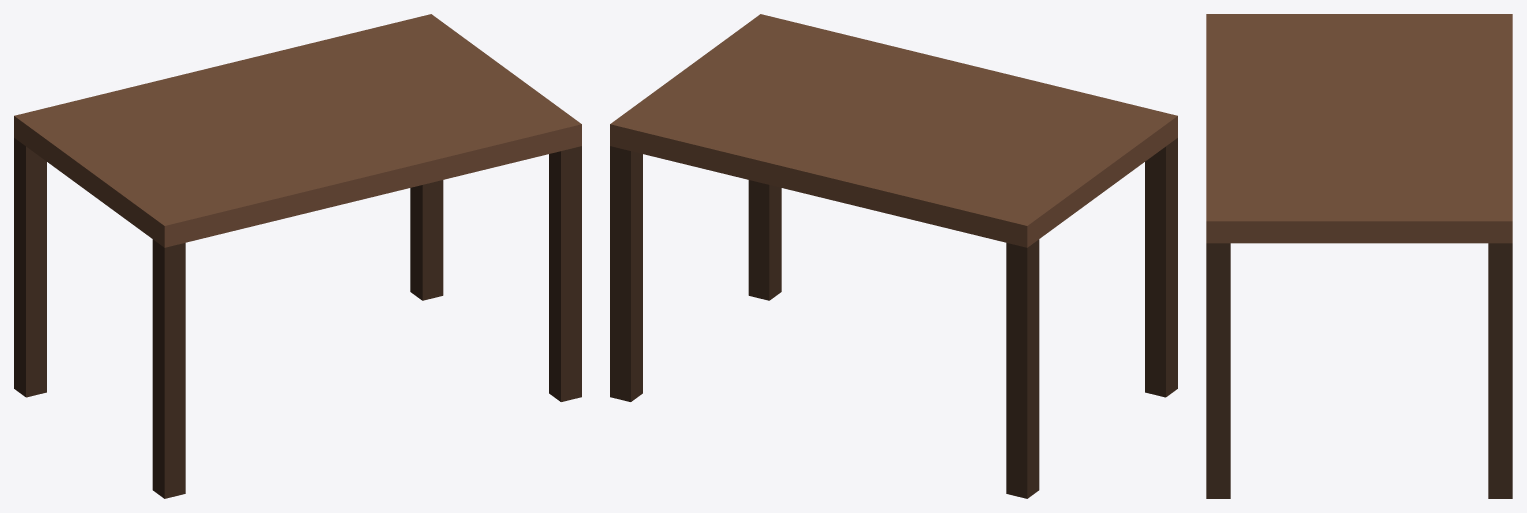
File: prop_workbench_workshop.glb
3 renders of one model, left to right at view 1: azimuth 30°, elevation 25°; view 2: azimuth 150°, elevation 25°; view 3: azimuth 270°, elevation 25°, orthographic.
Visible parts, largest first — view 1: PROP_Workbench_Workshop; view 2: PROP_Workbench_Workshop; view 3: PROP_Workbench_Workshop.
Part boxes in pixels (x1,y1,x2,y2): PROP_Workbench_Workshop: (14,14,581,498); PROP_Workbench_Workshop: (610,14,1177,498); PROP_Workbench_Workshop: (1206,14,1512,498).
Size of the model in its own units: 1.6 by 1 by 1.
